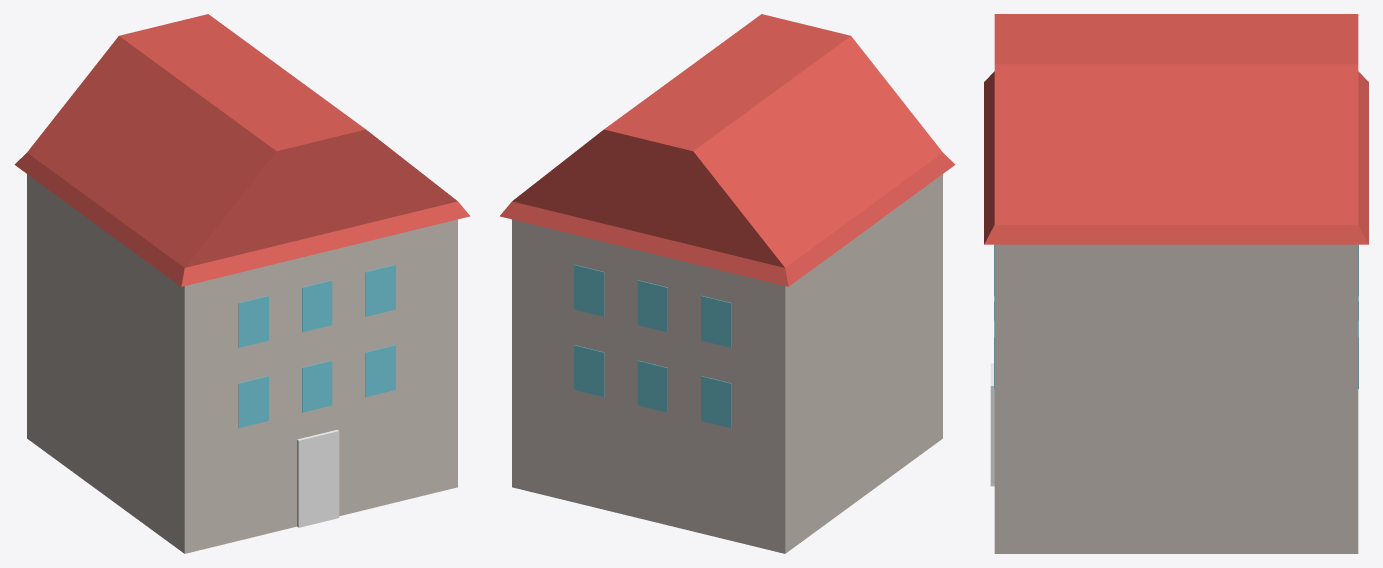
File: Building_Small.fbx
The picture shows the model from 3 angles, left to right: view 1: azimuth 30°, elevation 25°; view 2: azimuth 150°, elevation 25°; view 3: azimuth 270°, elevation 25°; orthographic projection. The views are drawn at different scales.
Parts seen in each view (by area): view 1: Cube.007, Cube.008, Cube.009; view 2: Cube.007, Cube.008; view 3: Cube.007, Cube.009.
Part boxes in pixels (bbox=[...]): Cube.007: bbox=[14, 14, 469, 553]; Cube.008: bbox=[238, 264, 395, 427]; Cube.009: bbox=[297, 429, 339, 527]; Cube.007: bbox=[500, 14, 955, 553]; Cube.008: bbox=[574, 264, 731, 427]; Cube.007: bbox=[984, 14, 1368, 553]; Cube.009: bbox=[990, 363, 994, 486].
Size of the model in its own units: 122 by 153 by 122.
